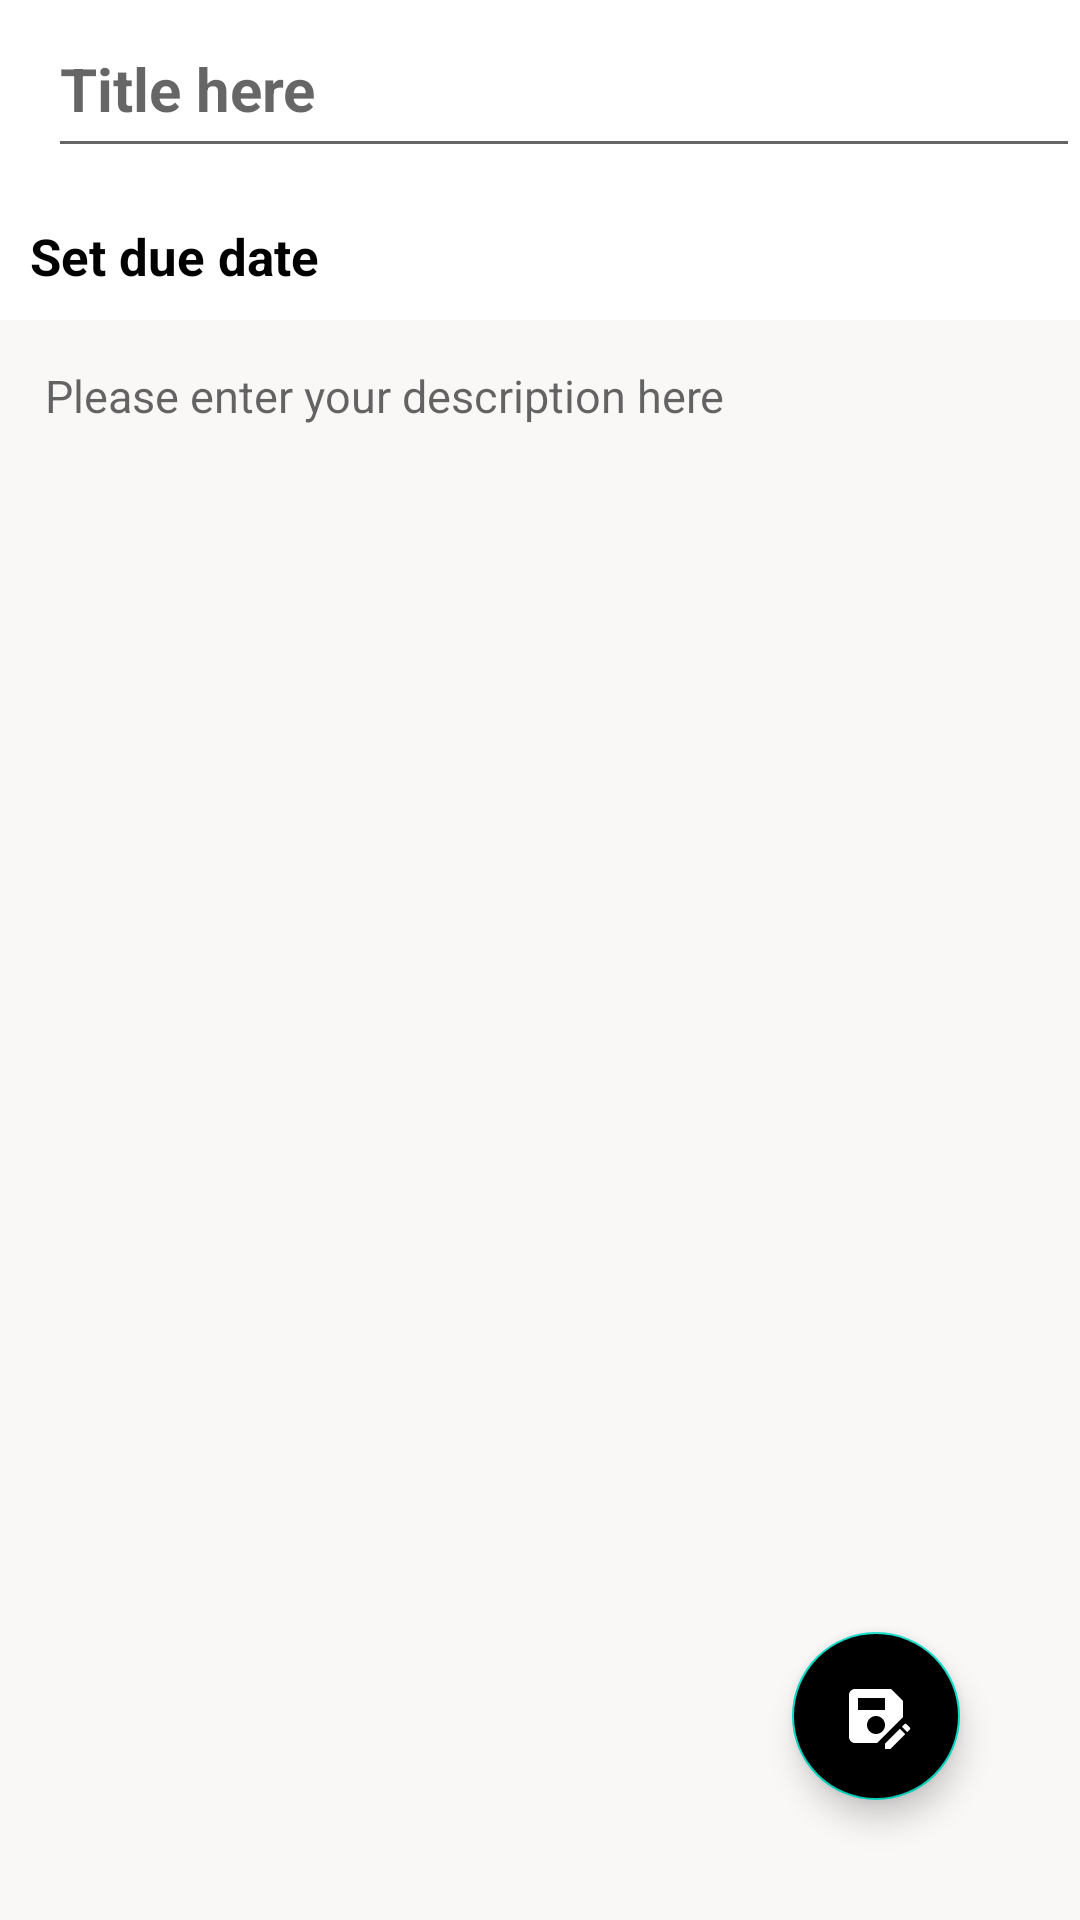

Where icons sit on this 1080w x 1920h app screen, as (x1, y1, x2, y2):
save as: (792, 1632, 960, 1800)
